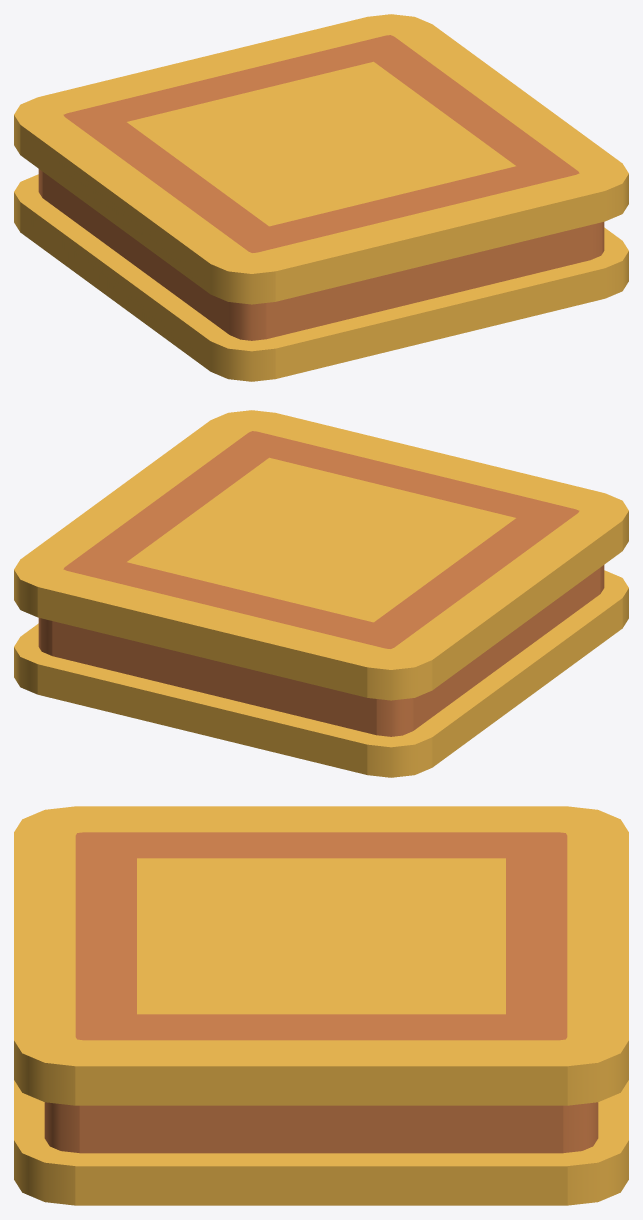
Rendered from blockMoving.glb.
3 views of the same model, one above another, from view 1: azimuth 30°, elevation 25°; view 2: azimuth 150°, elevation 25°; view 3: azimuth 270°, elevation 25° (orthographic). The views are drawn at different scales.
Visible parts, largest first — view 1: blockMoving; view 2: blockMoving; view 3: blockMoving.
Boxes of the visible parts, left/top/right/bottom form: blockMoving: left=14, top=14, right=628, bottom=381; blockMoving: left=14, top=410, right=628, bottom=777; blockMoving: left=14, top=806, right=628, bottom=1205.
Size of the model in its own units: 1 by 0.25 by 1.
